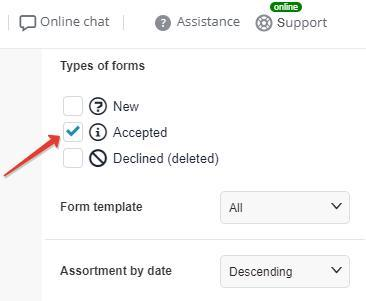checkbox: (64, 97, 84, 117), (64, 123, 84, 142), (64, 149, 84, 168)
dropdown: (222, 191, 350, 225), (221, 256, 351, 289)
icon: (87, 148, 111, 171), (88, 121, 110, 144), (89, 95, 110, 118), (18, 16, 41, 34), (255, 15, 275, 34), (155, 15, 173, 33)
label: (113, 151, 221, 170), (59, 264, 176, 280), (58, 200, 148, 218), (42, 16, 112, 29), (177, 15, 242, 29), (113, 126, 171, 141), (279, 16, 331, 31), (113, 99, 144, 115)
